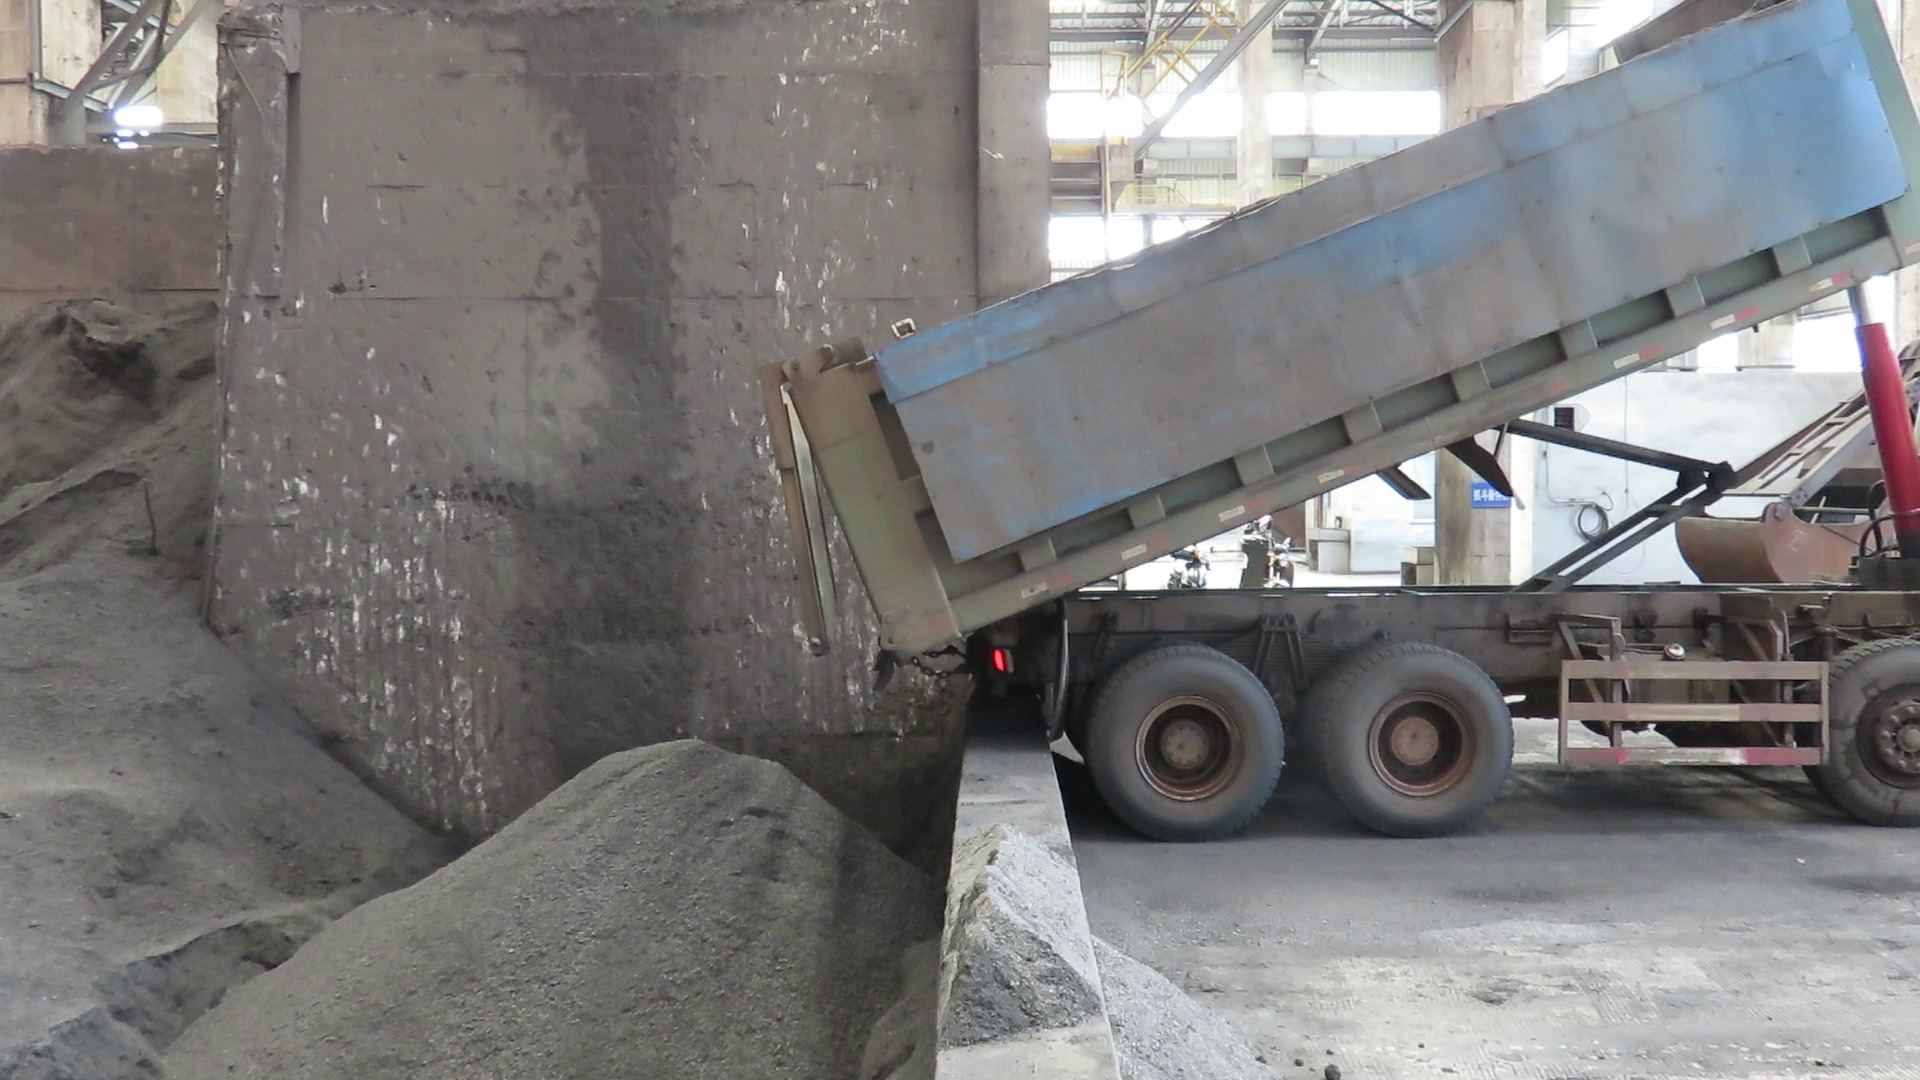truck: (754, 0, 1920, 855)
